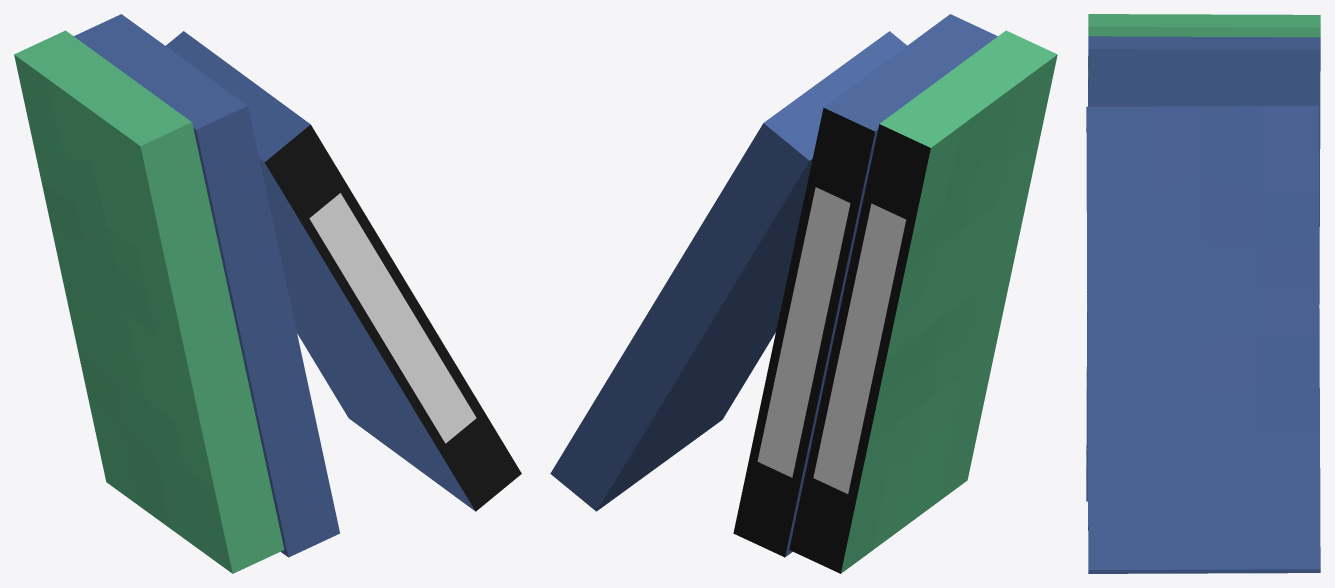
Rendered from pILA DE VHS 02.fbx.
3 views of the same model, side by side, from view 1: azimuth 30°, elevation 25°; view 2: azimuth 150°, elevation 25°; view 3: azimuth 270°, elevation 25° (orthographic). The views are drawn at different scales.
Parts seen in each view (by area): view 1: Vhs CON caja.005; view 2: Vhs CON caja.005; view 3: Vhs CON caja.005.
Boxes of the visible parts, bbox=[...] form: Vhs CON caja.005: bbox=[14, 14, 521, 573]; Vhs CON caja.005: bbox=[550, 14, 1057, 573]; Vhs CON caja.005: bbox=[1086, 14, 1320, 573].
Bounding box in the file's own units: 0.1739 × 0.2023 × 0.1008.
